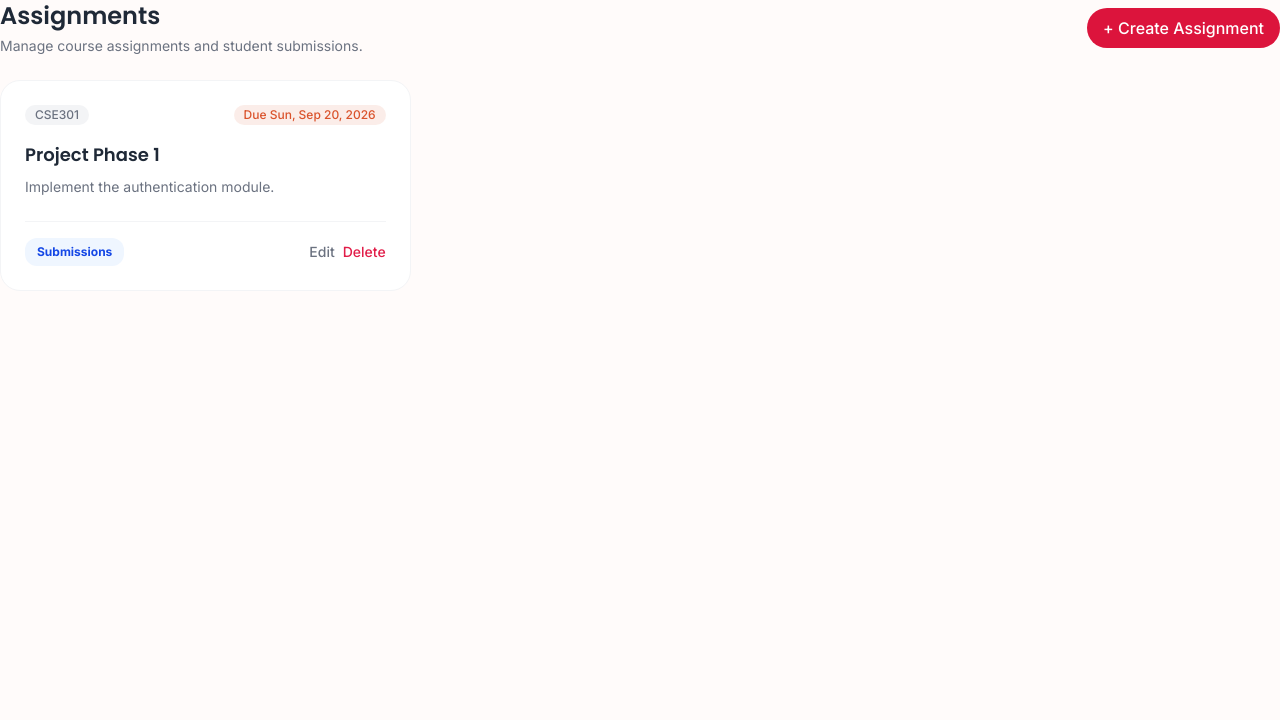
AssignmentsPanel Component › opens the delete confirmation dialog when Delete is clicked
Click the button "Delete".
click(364, 252)  # box [343,242,386,262]
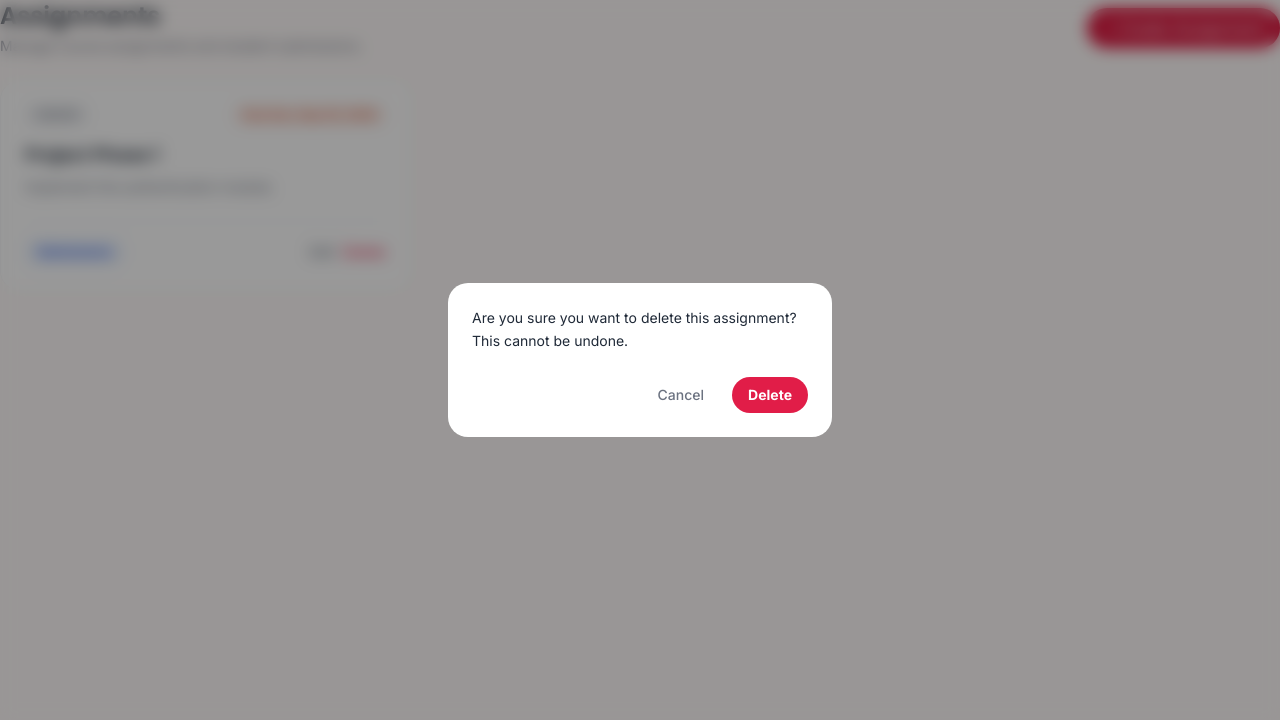
expect the text "Are you sure you want to delete this assignment" is shown: met, box [472,309,797,349]
